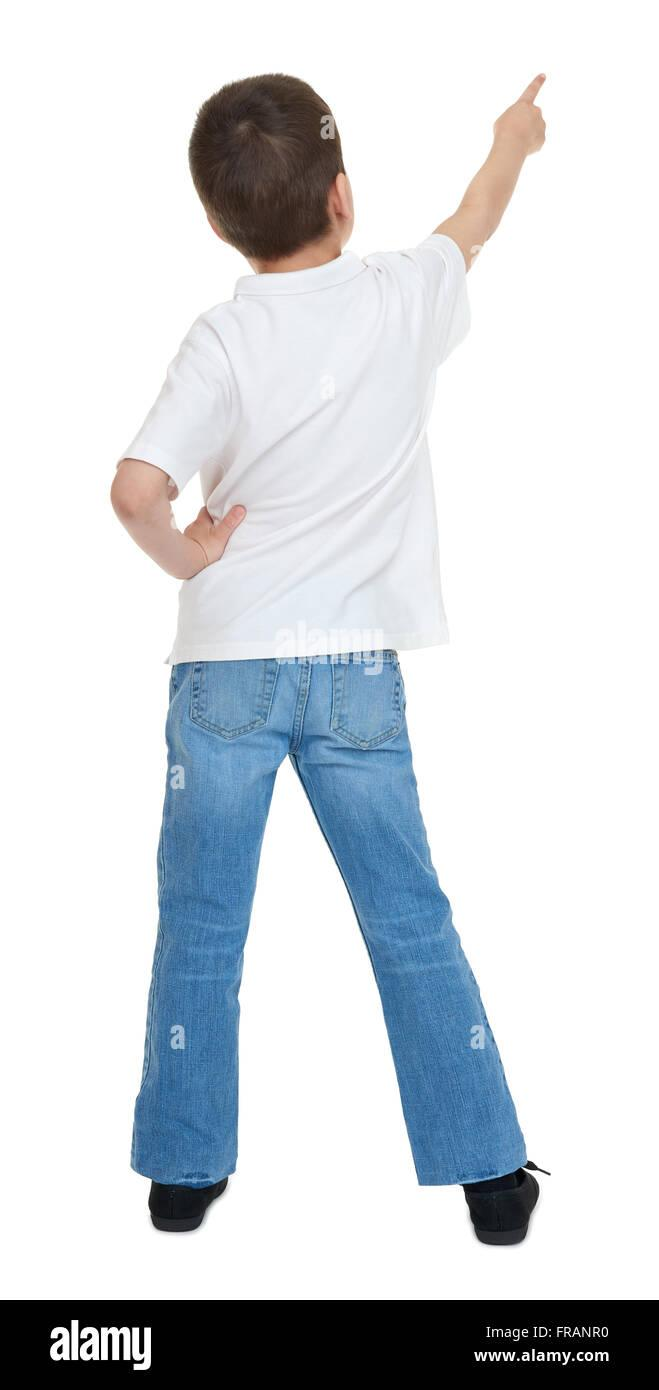Human: (57, 0, 591, 1316)
